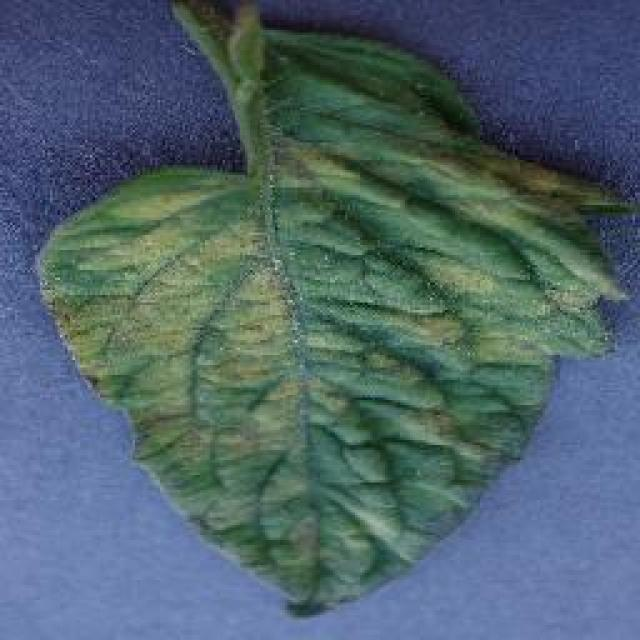leaf mold: (34, 0, 639, 618)
